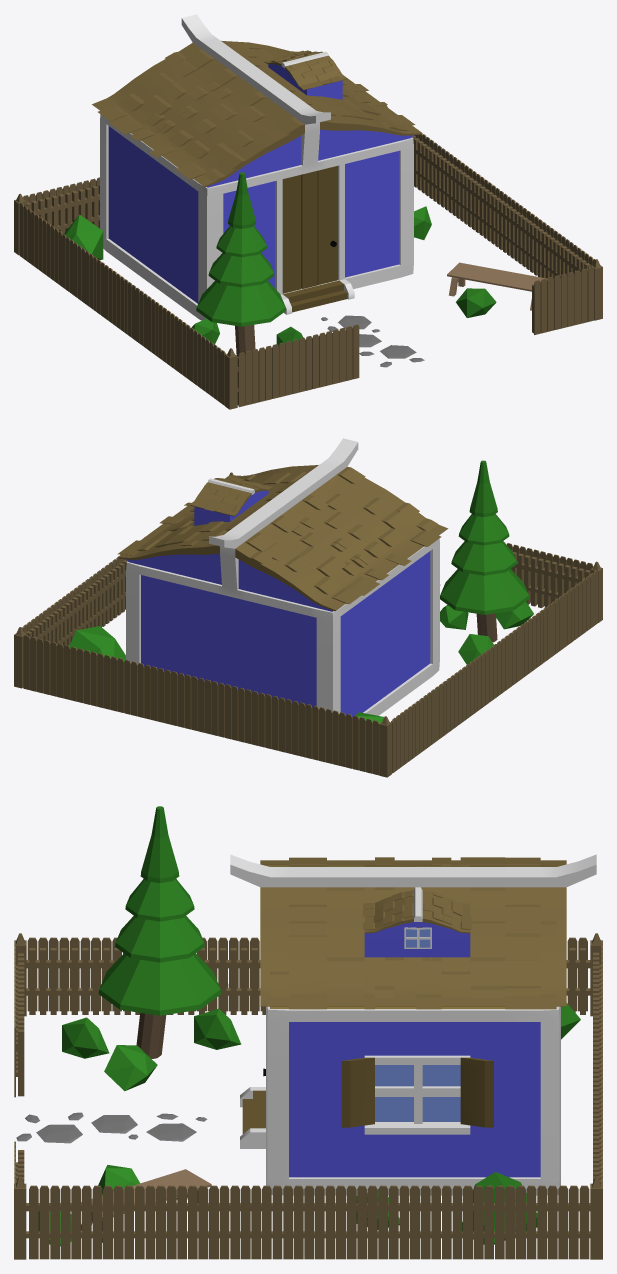
Rendered from 2lvl_blue.fbx.
3 views of the same model, one above another, from view 1: azimuth 30°, elevation 25°; view 2: azimuth 150°, elevation 25°; view 3: azimuth 270°, elevation 25° (orthographic). The views are drawn at different scales.
Visible parts, largest first — view 1: lvl_blue; view 2: lvl_blue; view 3: lvl_blue.
Boxes of the visible parts, x1=… form: lvl_blue: x1=14, y1=14, x2=602, y2=409; lvl_blue: x1=14, y1=438, x2=602, y2=777; lvl_blue: x1=14, y1=806, x2=602, y2=1259.
Bounding box in the file's own units: 95.66 × 47.84 × 95.74.
